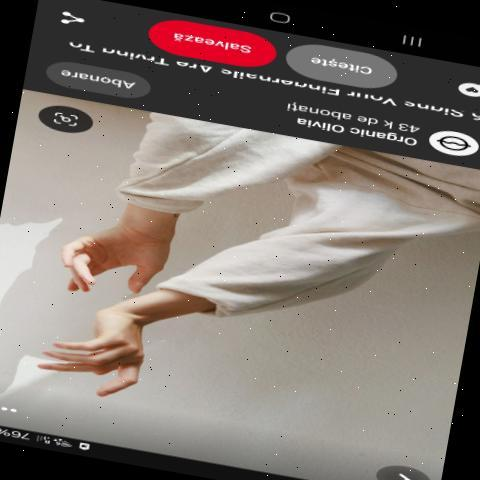Hands: (16, 311, 169, 403), (36, 220, 197, 297)
